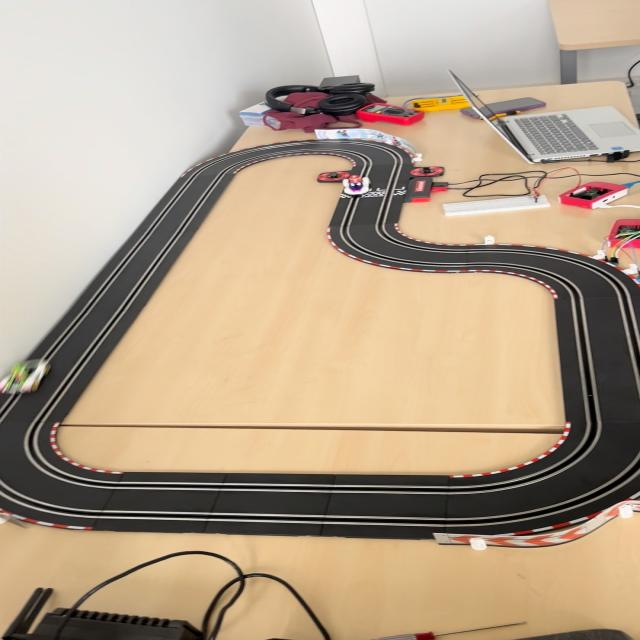mario: (339, 174, 374, 197)
yoshi: (0, 357, 55, 395)
